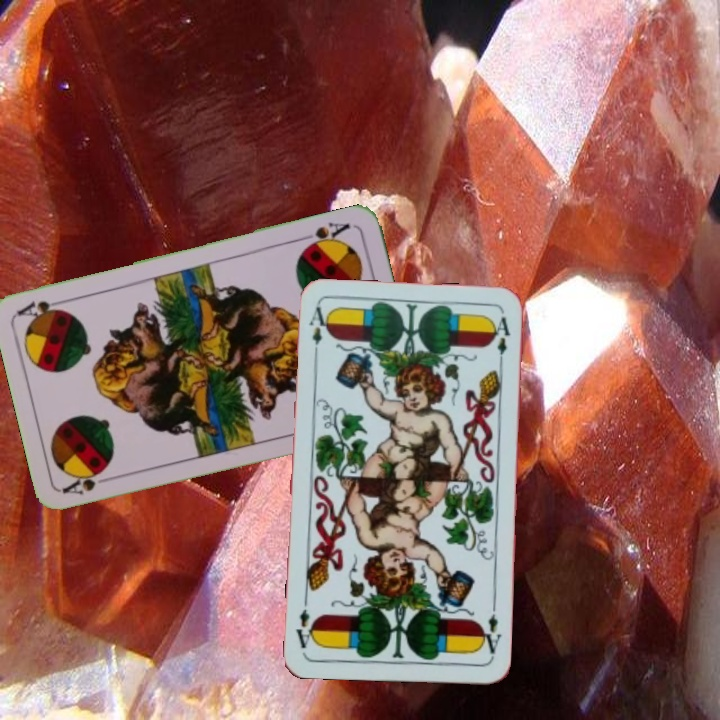EA: (304, 303, 330, 362), (476, 610, 504, 659)
SA: (59, 462, 118, 497), (297, 218, 353, 252)
